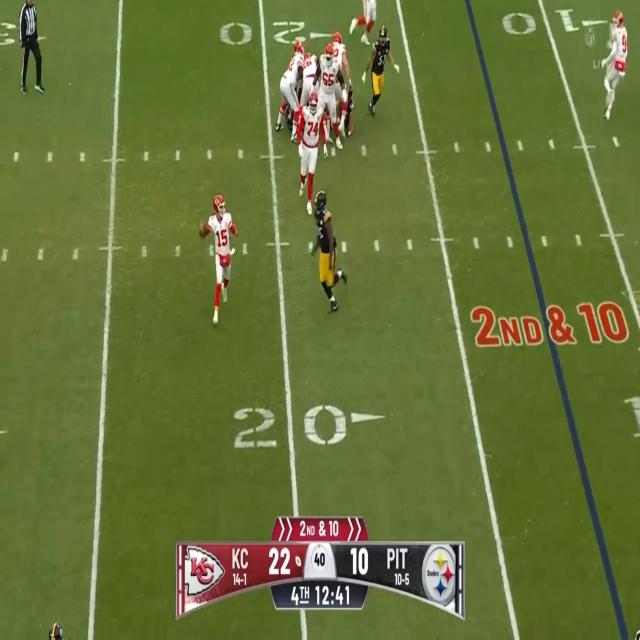Ball: (198, 220, 209, 236)
